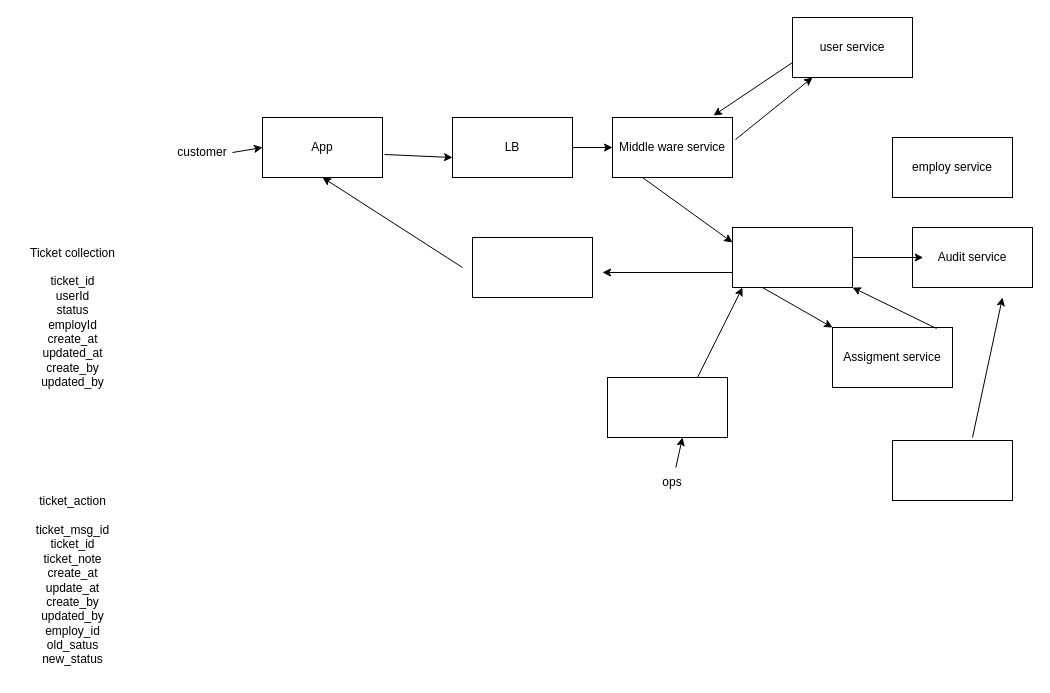
Some shapes in this 1050 by 693 pixel diagram are drawn without their labels. Here are the shapes that lost their labels. From the top down, the centre of each, then its label:
At (x=532, y=267): "Notification service".
At (x=792, y=257): "Ticketing servicce".
At (x=667, y=407): "CRM".
At (x=952, y=470): "Employ panel".
